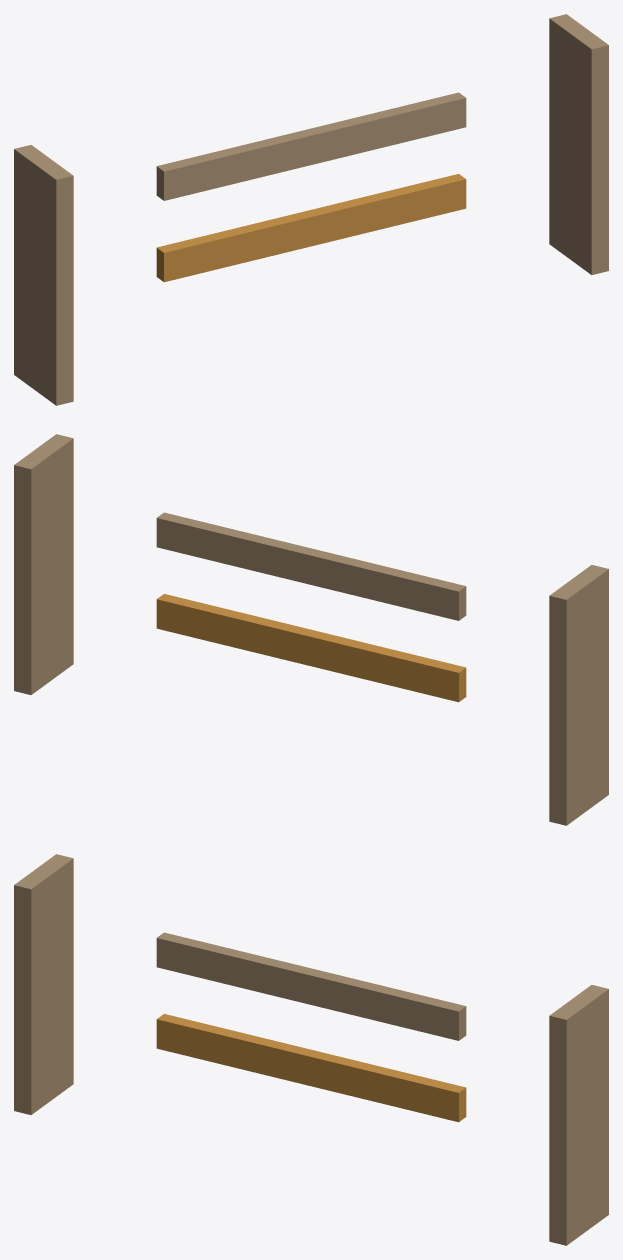
The model's file is city_barricade.glb.
The picture shows the model from 3 angles, top to bottom: view 1: azimuth 30°, elevation 25°; view 2: azimuth 150°, elevation 25°; view 3: azimuth 330°, elevation 25°; orthographic projection.
Parts seen in each view (by area): view 1: BarricadeLeg0, BarricadeLeg1, BarricadePlank0, BarricadePlank1; view 2: BarricadeLeg0, BarricadeLeg1, BarricadePlank0, BarricadePlank1; view 3: BarricadeLeg0, BarricadeLeg1, BarricadePlank0, BarricadePlank1.
Boxes of the visible parts, x1,y1,x2,y2 form: BarricadeLeg0: (14,145,73,405); BarricadeLeg1: (549,14,608,274); BarricadePlank0: (156,174,466,282); BarricadePlank1: (156,92,466,200); BarricadeLeg0: (549,565,608,825); BarricadeLeg1: (14,434,73,694); BarricadePlank0: (156,594,466,702); BarricadePlank1: (156,512,466,620); BarricadeLeg0: (14,854,73,1114); BarricadeLeg1: (549,985,608,1245); BarricadePlank0: (156,1014,466,1122); BarricadePlank1: (156,932,466,1040).
Size of the model in its own units: 2.56 by 1 by 0.34.
